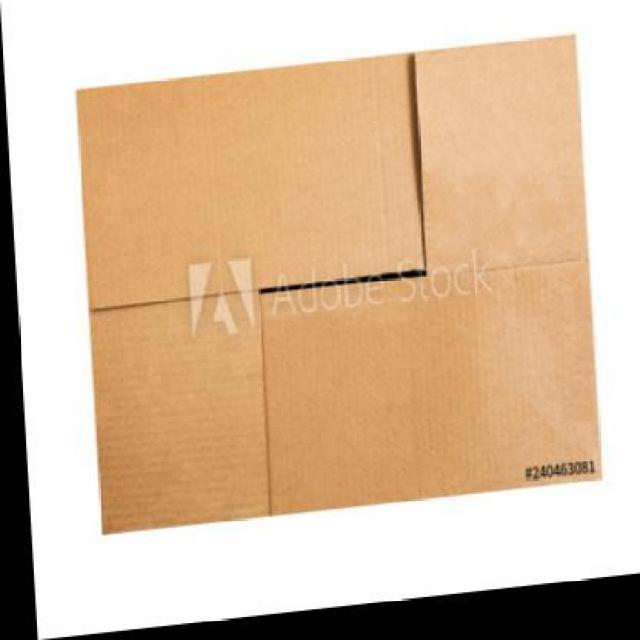box: (76, 44, 592, 534)
